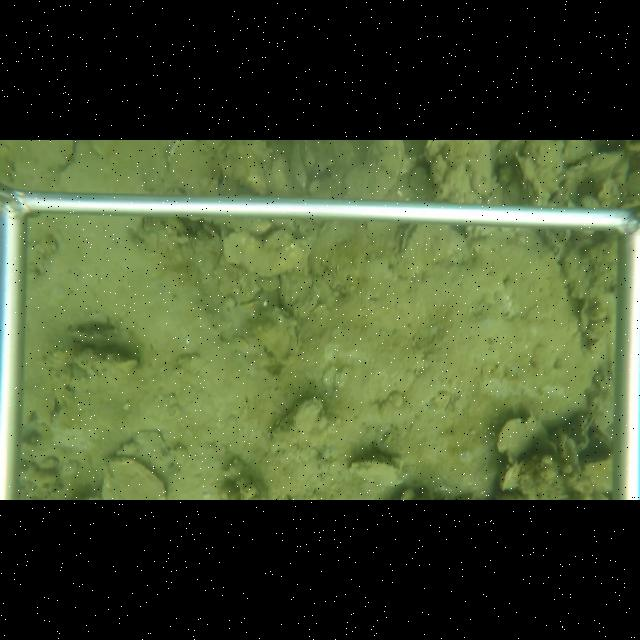Oyster-Closed: (308, 221, 375, 297), (268, 395, 342, 463), (341, 140, 406, 200), (511, 140, 565, 206), (97, 454, 170, 500), (254, 307, 303, 366), (345, 454, 410, 490), (26, 143, 80, 174), (291, 141, 312, 193), (498, 461, 519, 495)
Oyster-Open: (398, 224, 469, 280)
